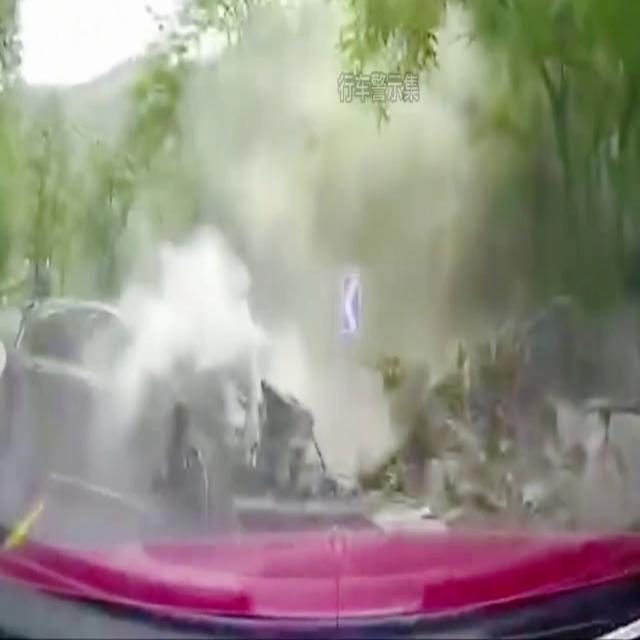accident: (0, 272, 640, 570)
